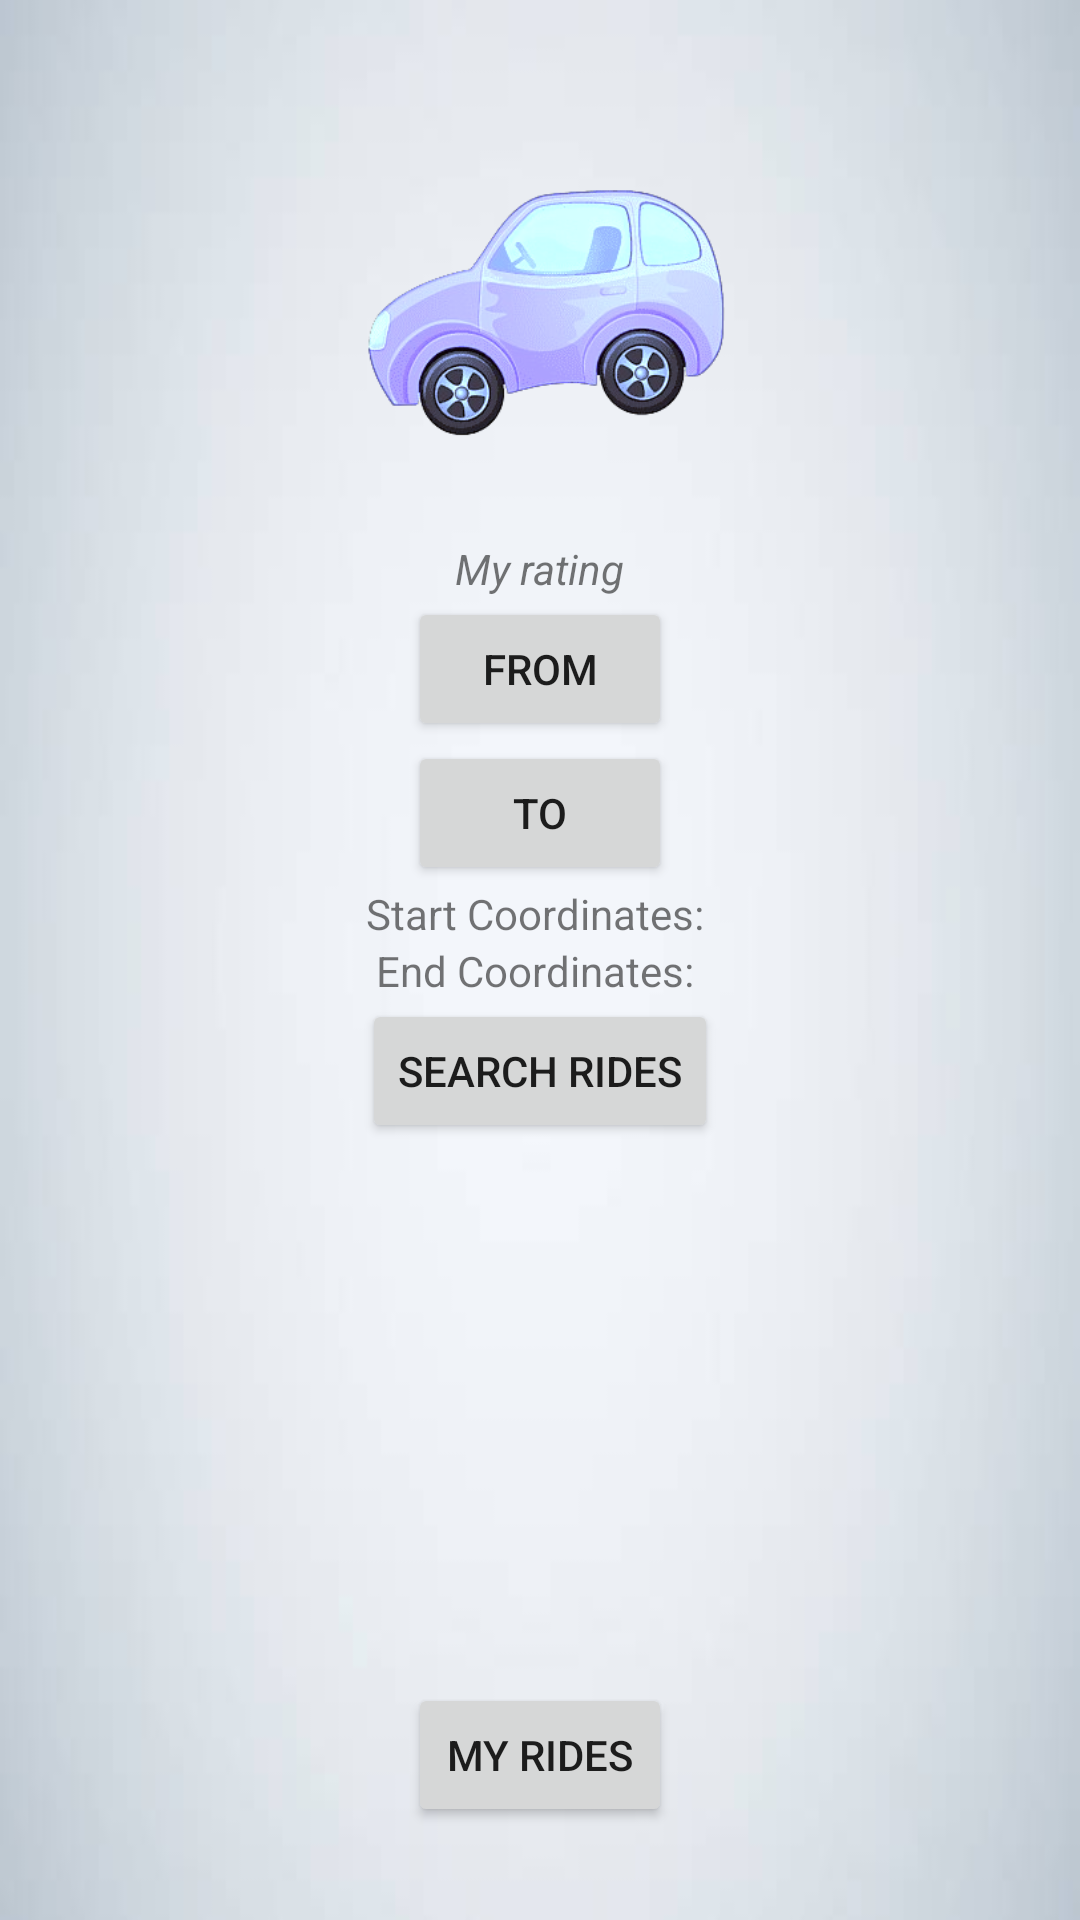

Icon bounding boxes for this 1080 × 1920 phone screenshot, format {"left": x1, "top": y1, "right": x2, "bottom": y2}:
vroom: {"left": 368, "top": 190, "right": 724, "bottom": 435}
